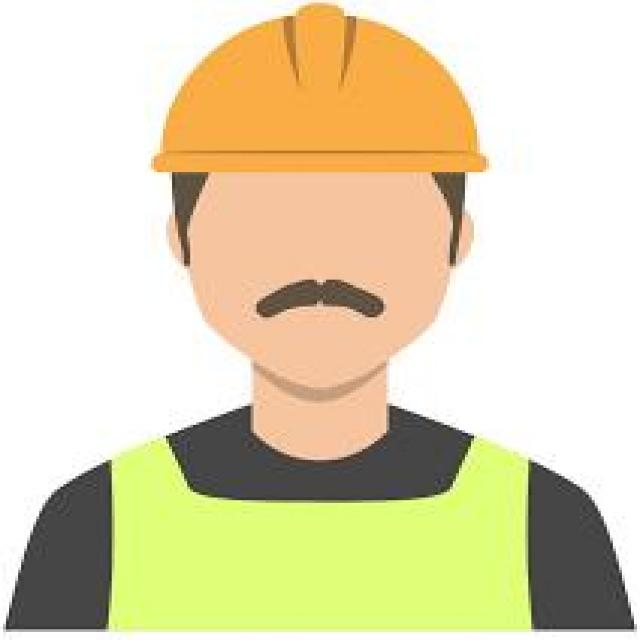Reflective-Jacket: (45, 422, 619, 635)
Safety-Helmet: (145, 6, 501, 178)
